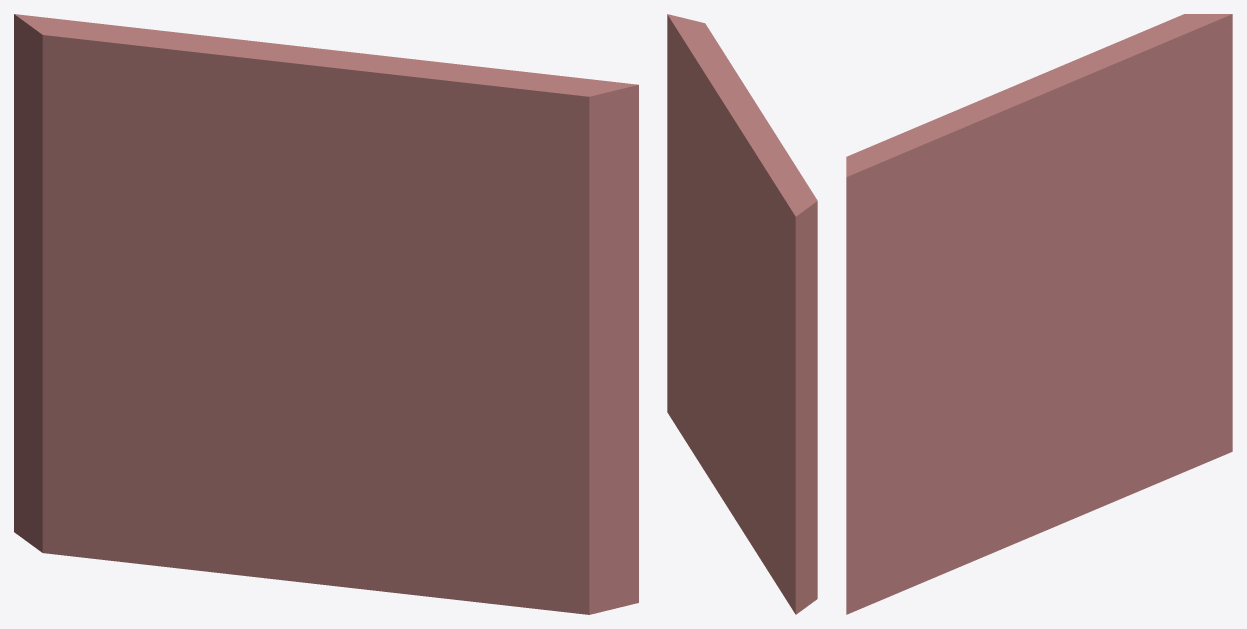
The model's file is wall_3x3_diagonal.fbx.
3 renders of one model, left to right at view 1: azimuth 30°, elevation 25°; view 2: azimuth 150°, elevation 25°; view 3: azimuth 270°, elevation 25°, orthographic. The views are drawn at different scales.
Visible parts, largest first — view 1: Cube; view 2: Cube; view 3: Cube.
Part boxes in pixels (left/top/right/bottom): Cube: left=14, top=14, right=638, bottom=614; Cube: left=667, top=14, right=817, bottom=614; Cube: left=846, top=14, right=1232, bottom=614.
Bounding box in the file's own units: 320 × 400 × 320.
